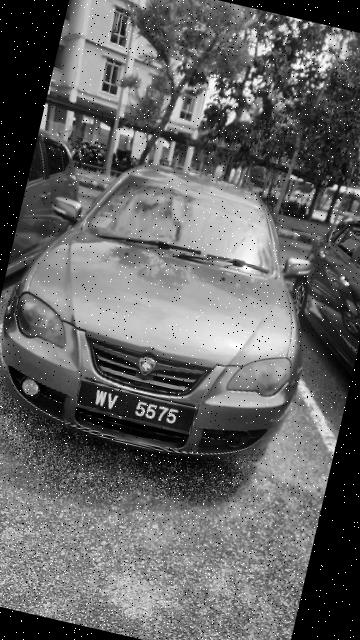License_Plate: (70, 373, 202, 442)
car: (1, 130, 341, 481)
